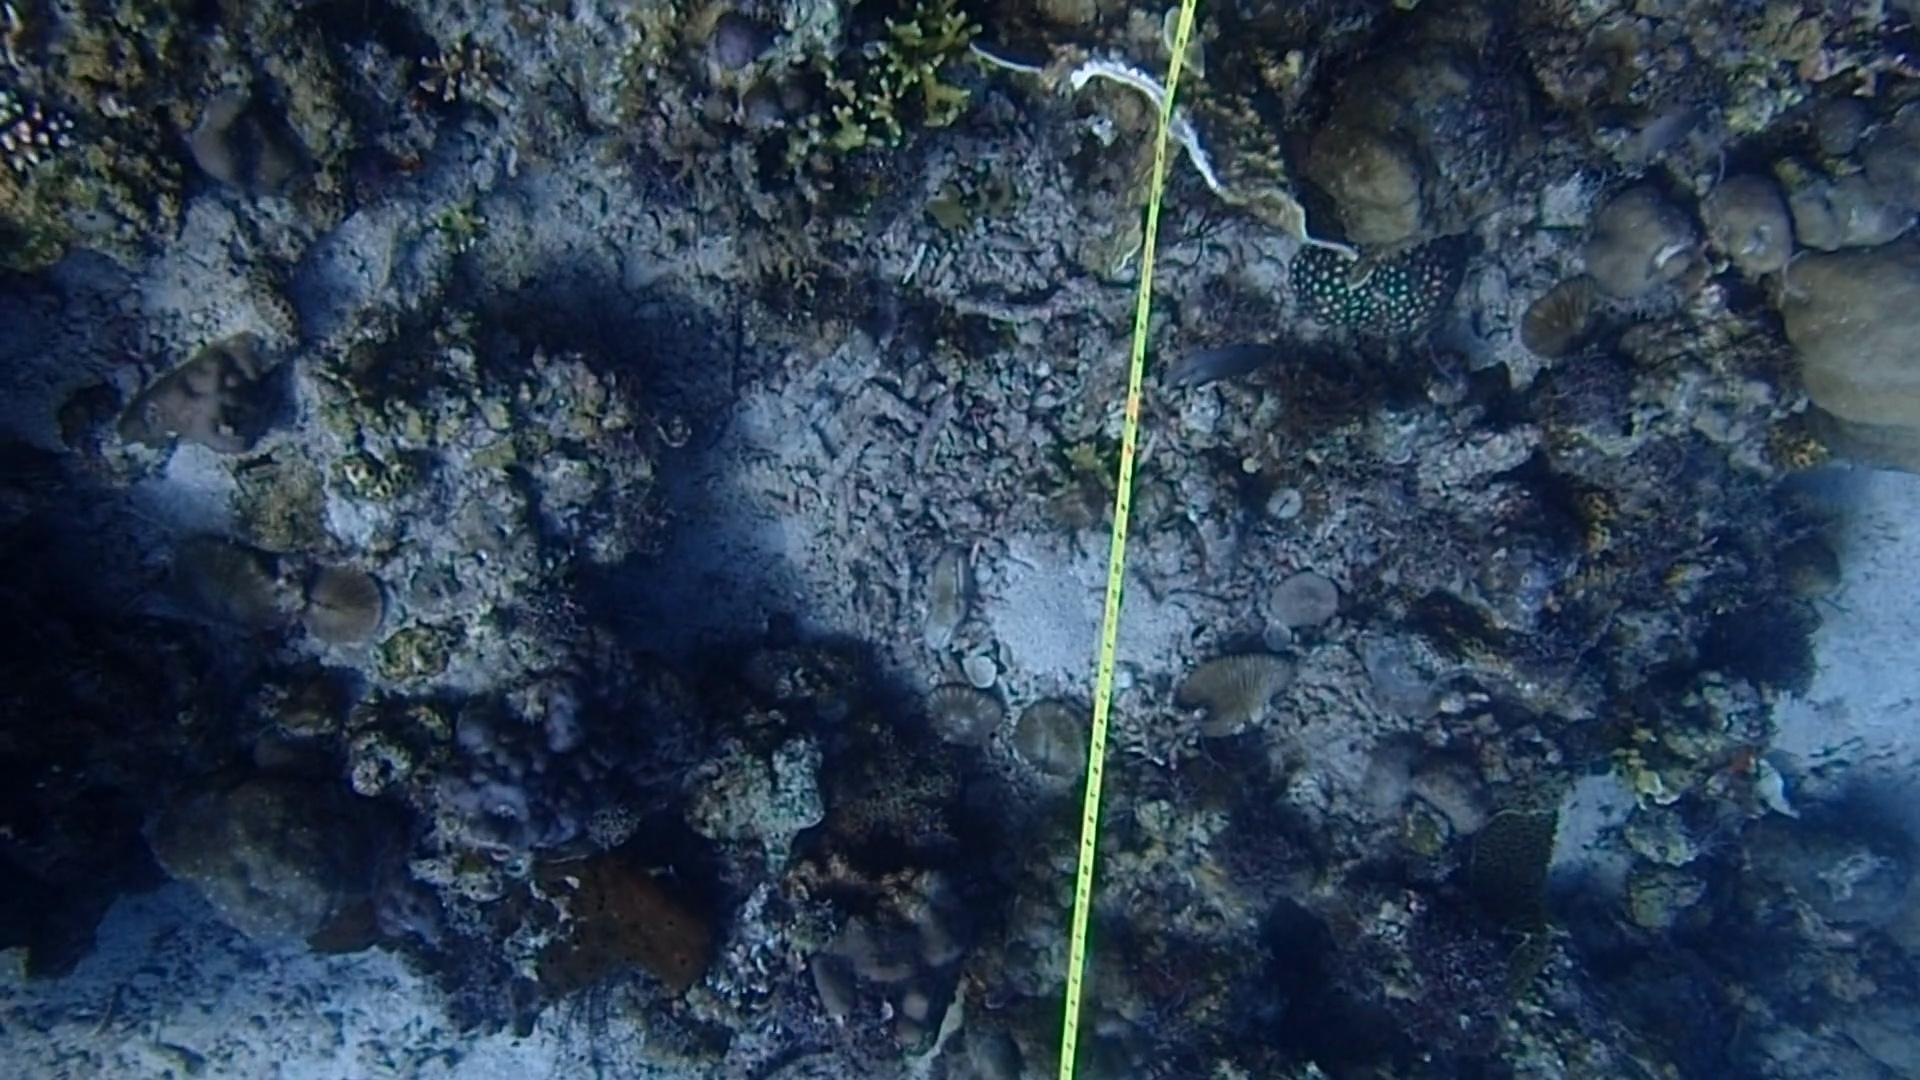Light Fish: (1155, 323, 1275, 407)
